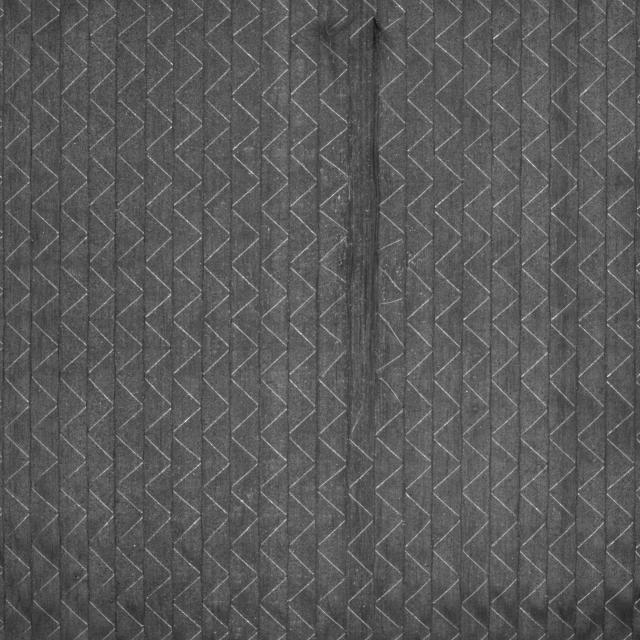carbon-fibre-defect: (339, 11, 395, 411)
